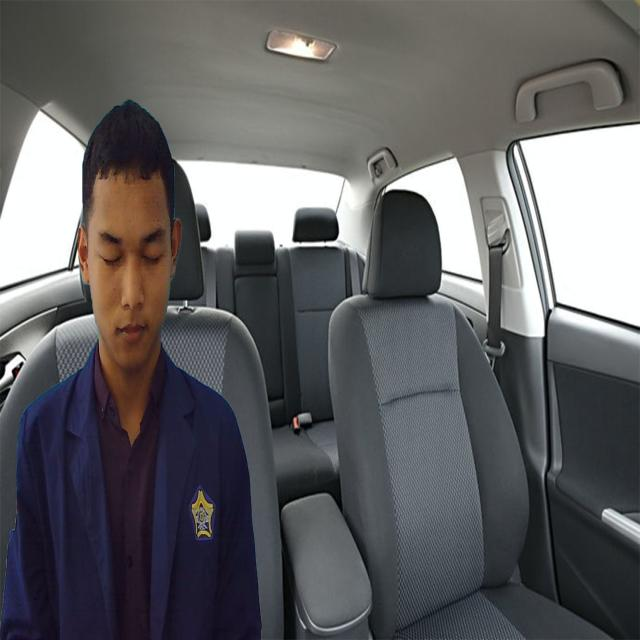no-seatbelt: (90, 160, 176, 386)
